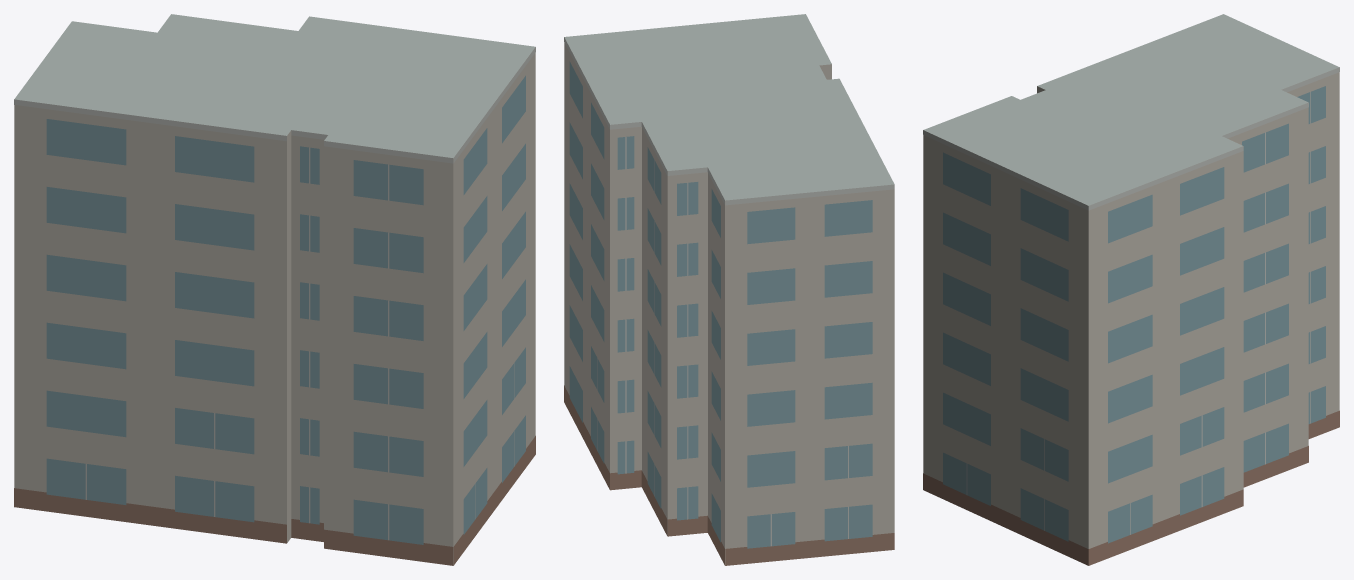
The model's file is survey-upis-32965026.glb.
3 renders of one model, left to right at view 1: azimuth 30°, elevation 25°; view 2: azimuth 150°, elevation 25°; view 3: azimuth 270°, elevation 25°, orthographic. The views are drawn at different scales.
Parts seen in each view (by area): view 1: survey-upis-32965026.tmp; view 2: survey-upis-32965026.tmp; view 3: survey-upis-32965026.tmp.
Boxes of the visible parts, left/top/right/bottom form: survey-upis-32965026.tmp: left=14, top=14, right=535, bottom=565; survey-upis-32965026.tmp: left=564, top=14, right=894, bottom=565; survey-upis-32965026.tmp: left=923, top=14, right=1339, bottom=565.
Bounding box in the file's own units: 20.92 × 18.3 × 19.19.
